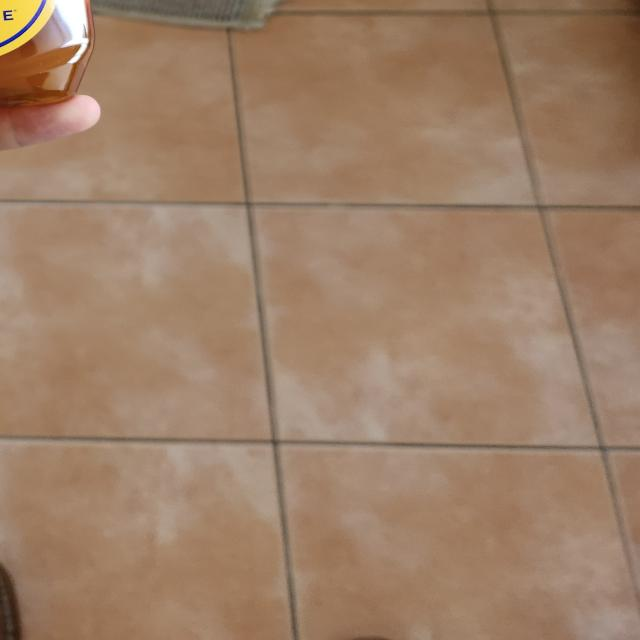honey: (0, 0, 97, 121)
